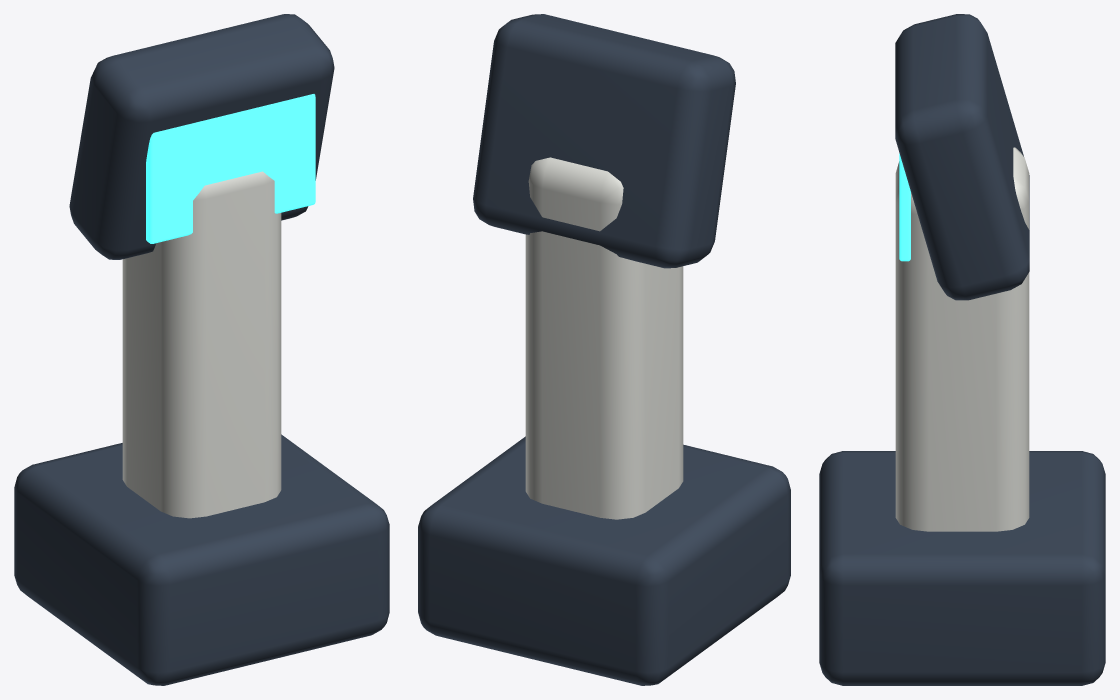
The model's file is fold-node.glb.
3 views of the same model, side by side, from view 1: azimuth 30°, elevation 25°; view 2: azimuth 150°, elevation 25°; view 3: azimuth 270°, elevation 25° (orthographic).
Parts seen in each view (by area): view 1: base; view 2: base; view 3: base.
Boxes of the visible parts, x1,y1,x2,y2 form: base: (14,14,389,685); base: (418,14,790,685); base: (819,14,1105,685).
Bounding box in the file's own units: 0.6 × 1.33 × 0.6.
